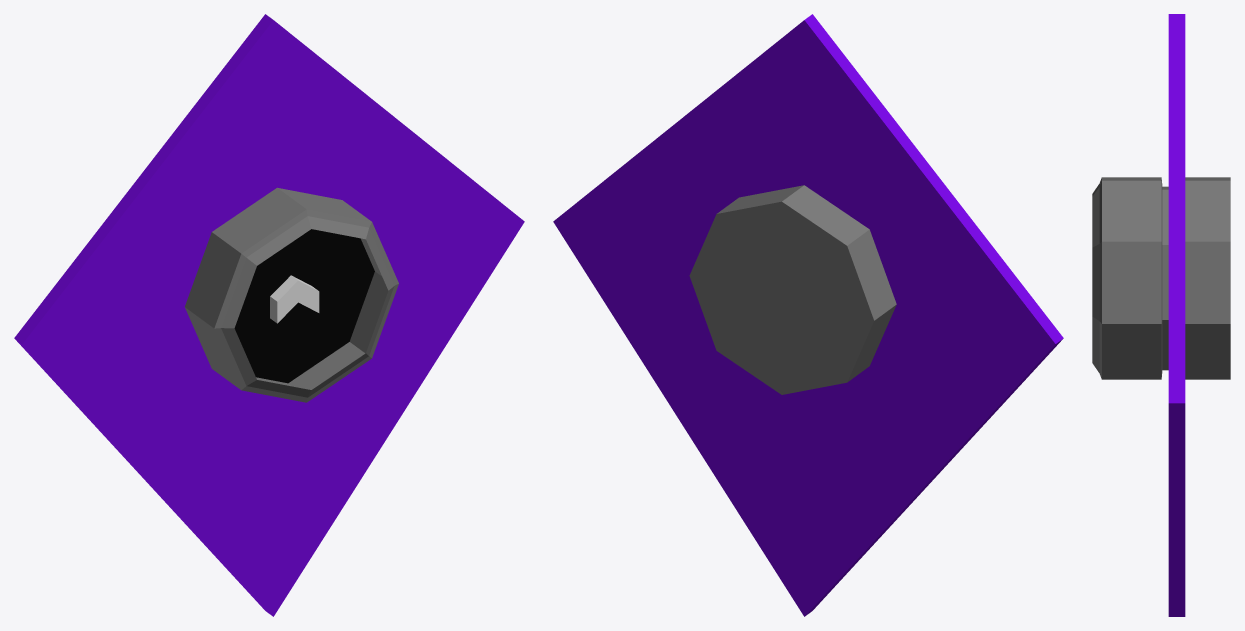
The model's file is Player_character_1.0.fbx.
3 renders of one model, left to right at view 1: azimuth 30°, elevation 25°; view 2: azimuth 150°, elevation 25°; view 3: azimuth 270°, elevation 25°, orthographic.
Parts seen in each view (by area): view 1: Player character 1.0; view 2: Player character 1.0; view 3: Player character 1.0.
Boxes of the visible parts, x1=… form: Player character 1.0: x1=14, y1=14, x2=524, y2=616; Player character 1.0: x1=553, y1=14, x2=1063, y2=616; Player character 1.0: x1=1092, y1=14, x2=1230, y2=616.
Size of the model in its own units: 225 by 256 by 53.31.
